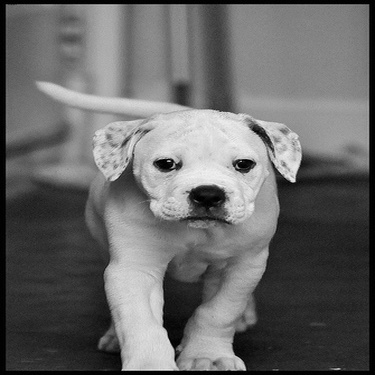dog: (26, 71, 306, 367)
